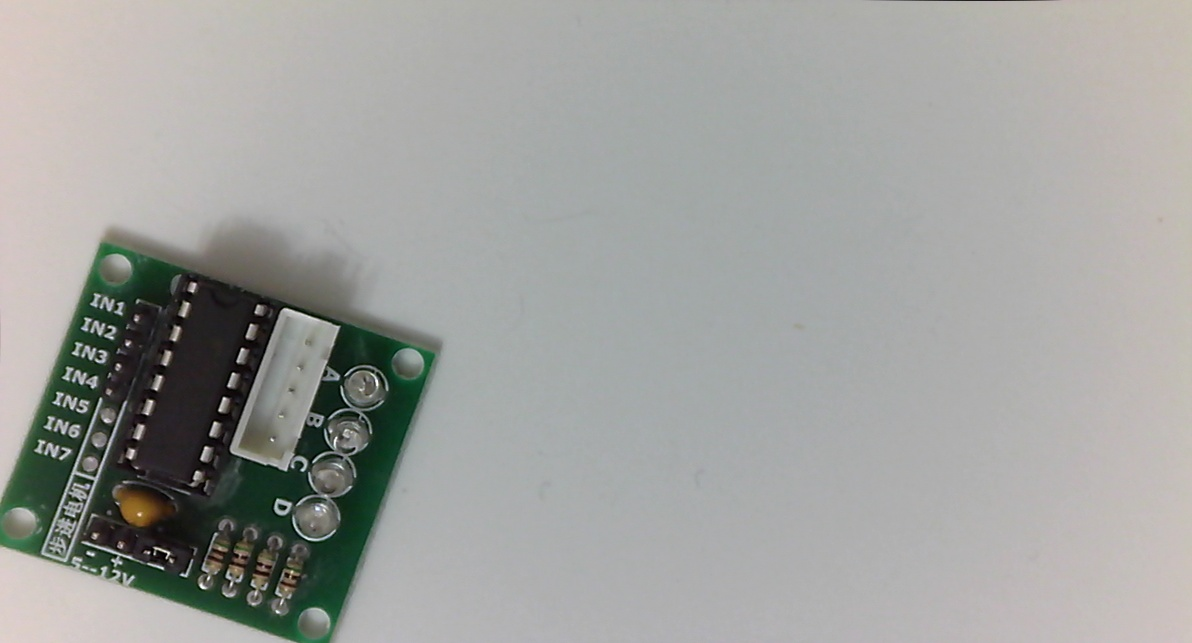uln2003: (0, 233, 441, 641)
